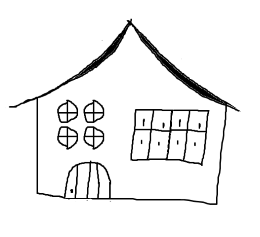closed_window: (125, 103, 213, 167), (54, 97, 81, 127), (81, 98, 108, 126), (53, 125, 80, 153), (83, 125, 106, 151)
door: (62, 159, 116, 204)
single_line_roof: (13, 14, 250, 115)
wall: (31, 96, 232, 208)
